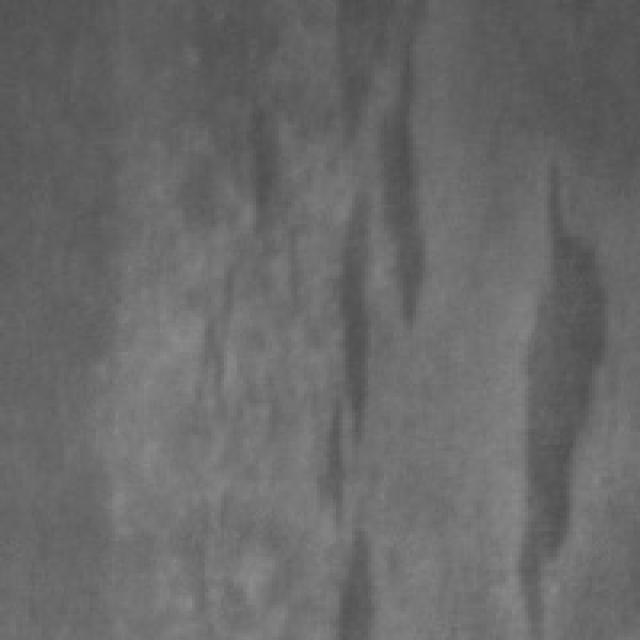inclusion: (310, 0, 429, 522), (506, 147, 608, 634), (224, 90, 291, 272), (323, 492, 384, 634)
